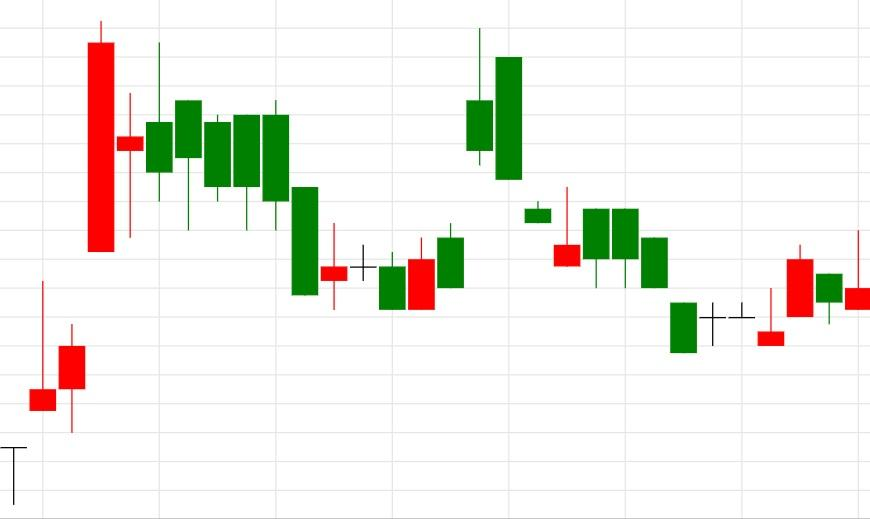bullish_engulfing_rise: (145, 42, 436, 311)
